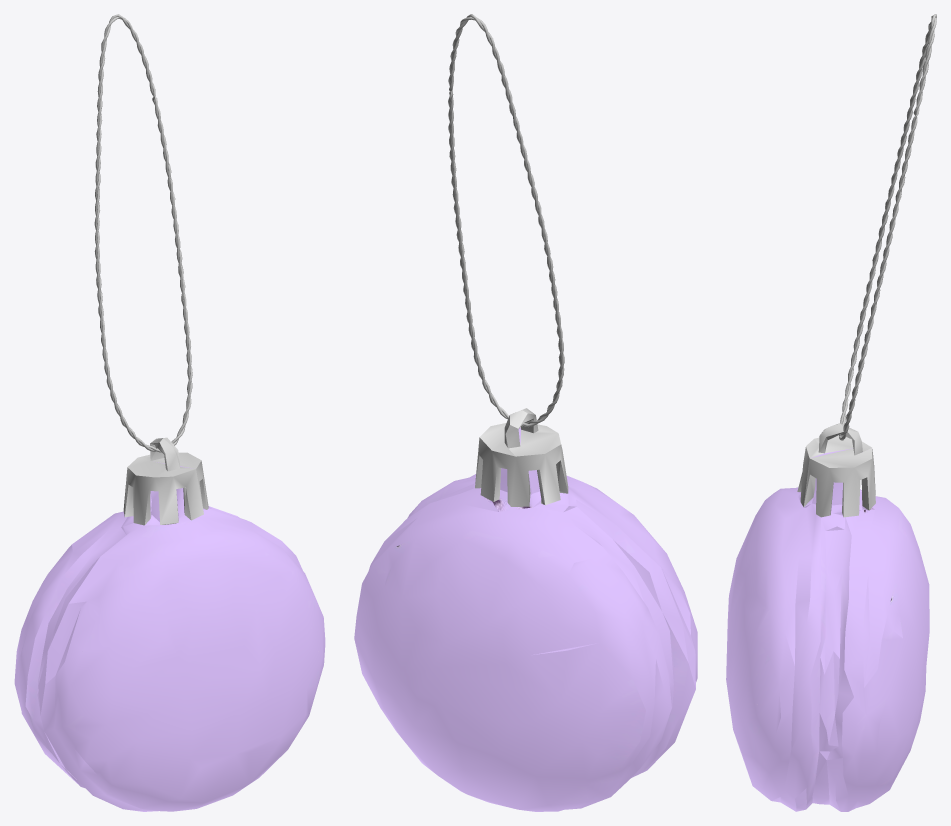
File: macaron_purple.glb
The picture shows the model from 3 angles, left to right: view 1: azimuth 30°, elevation 25°; view 2: azimuth 150°, elevation 25°; view 3: azimuth 270°, elevation 25°; orthographic projection. The views are drawn at different scales.
Parts seen in each view (by area): view 1: Mesh1.0, GN Instance; view 2: Mesh1.0, GN Instance; view 3: Mesh1.0, GN Instance.
Boxes of the visible parts, x1,y1,x2,y2 form: Mesh1.0: (14, 437, 325, 811); GN Instance: (94, 14, 192, 452); Mesh1.0: (354, 408, 697, 811); GN Instance: (448, 14, 564, 427); Mesh1.0: (726, 423, 929, 811); GN Instance: (839, 14, 936, 440).
Size of the model in its own units: 0.0415 by 0.1052 by 0.0257.
3 materials, 1 textured.
